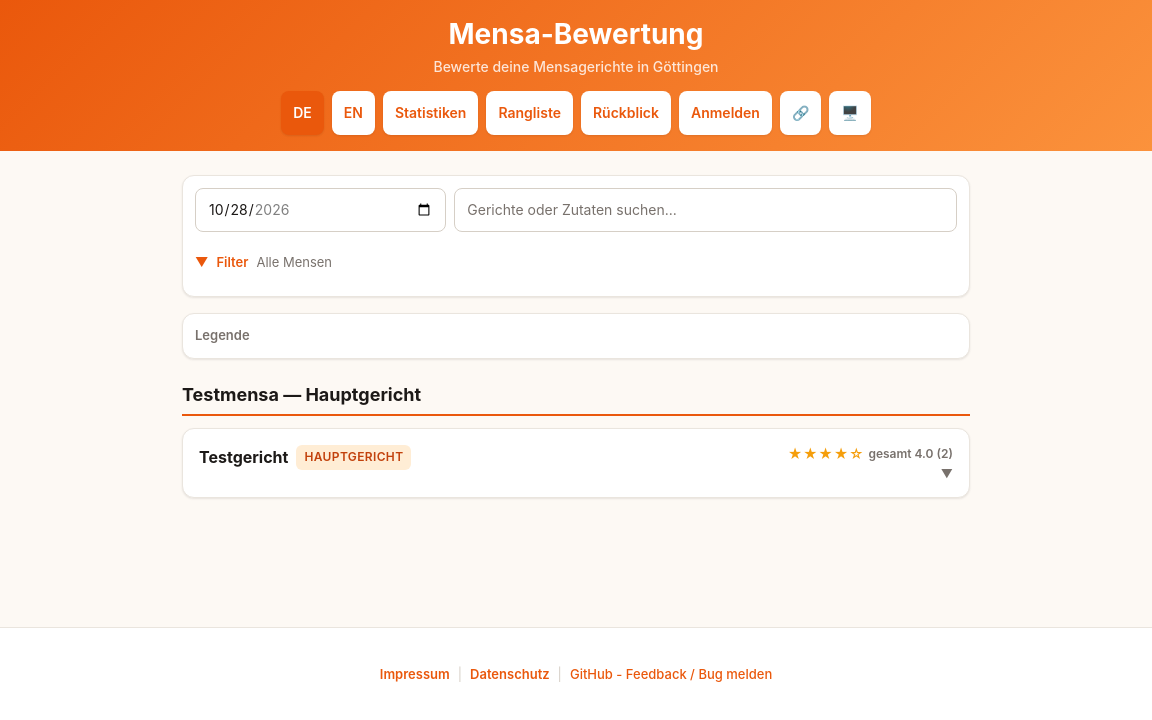
Test: comments use created_at instead of meal date for relative date display
What coordinates should you click on to do the following:
click the text "Testgericht"
I would click on:
 (244, 458)
Its box is [199,447,288,468].
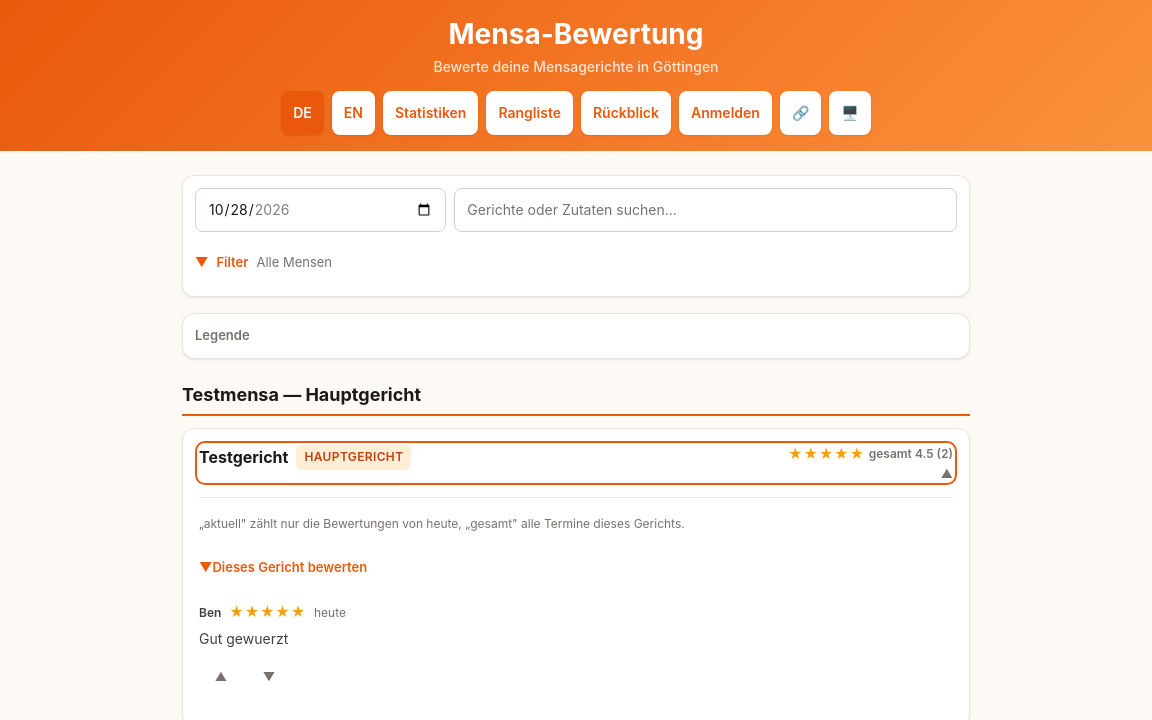
Now the text "Gut gewuerzt" is shown, box [199,630,288,647]
Now the text "heute" is shown, box [314,603,346,622]
